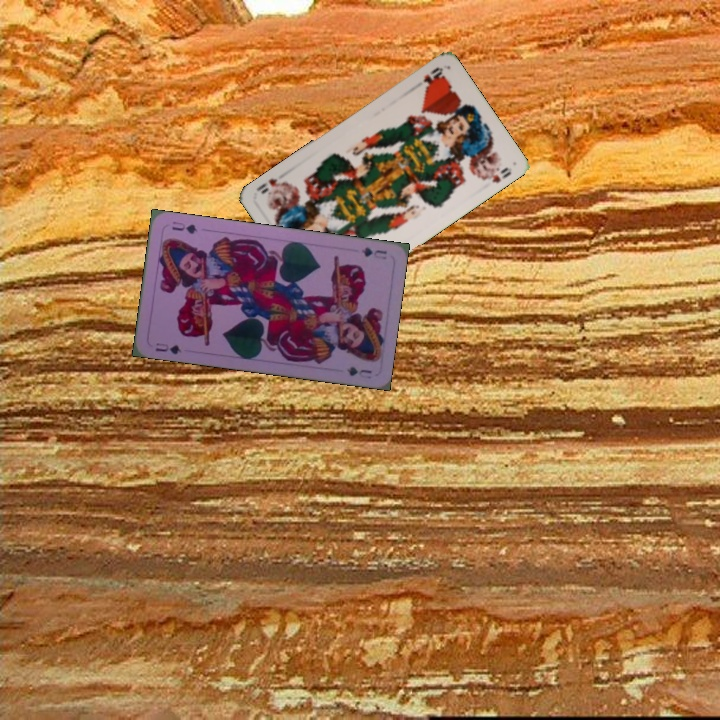GU: (357, 243, 389, 262), (151, 339, 184, 357)
HO: (419, 63, 445, 90)
